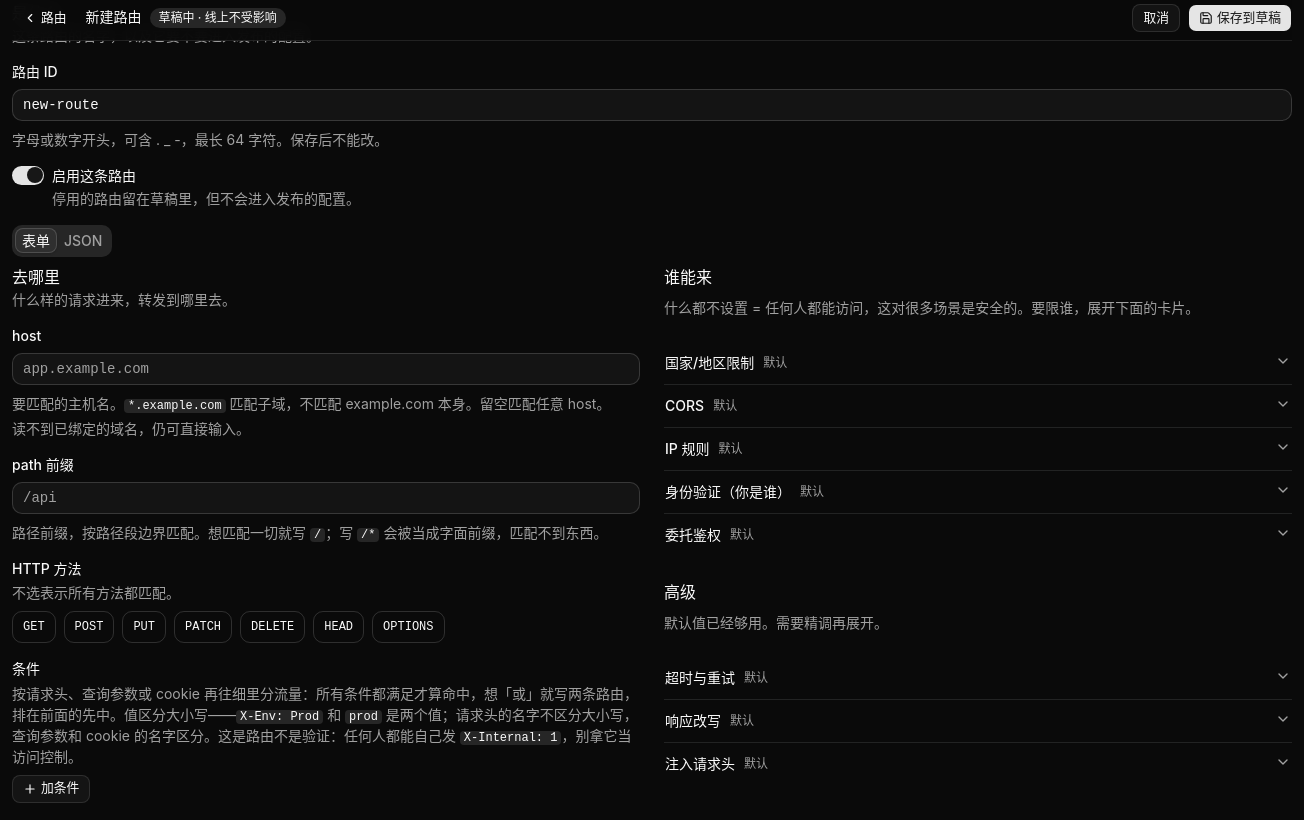
Test: RouteEditor 正文改写（issue #29） › 打开改写就摊开代价：剥掉验证器与 CSP 这件事不能等出问题才发现
Click the button "响应改写 默认".
click(693, 720)  # box x1=664 y1=700 x2=1292 y2=742
(page scrolled)
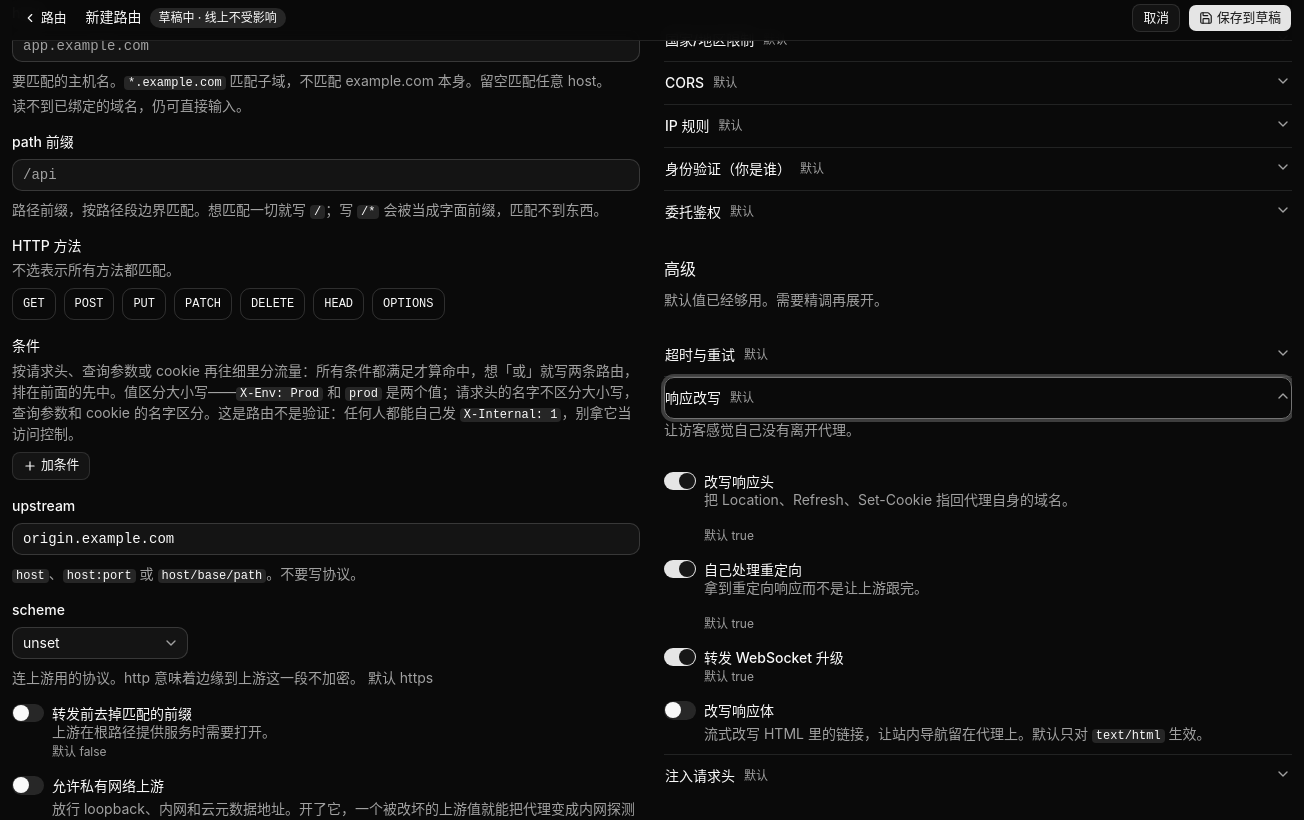
Click the switch named "改写响应体" next to "改写响应体".
click(680, 710)  # box x1=664 y1=701 x2=696 y2=720
(page scrolled)
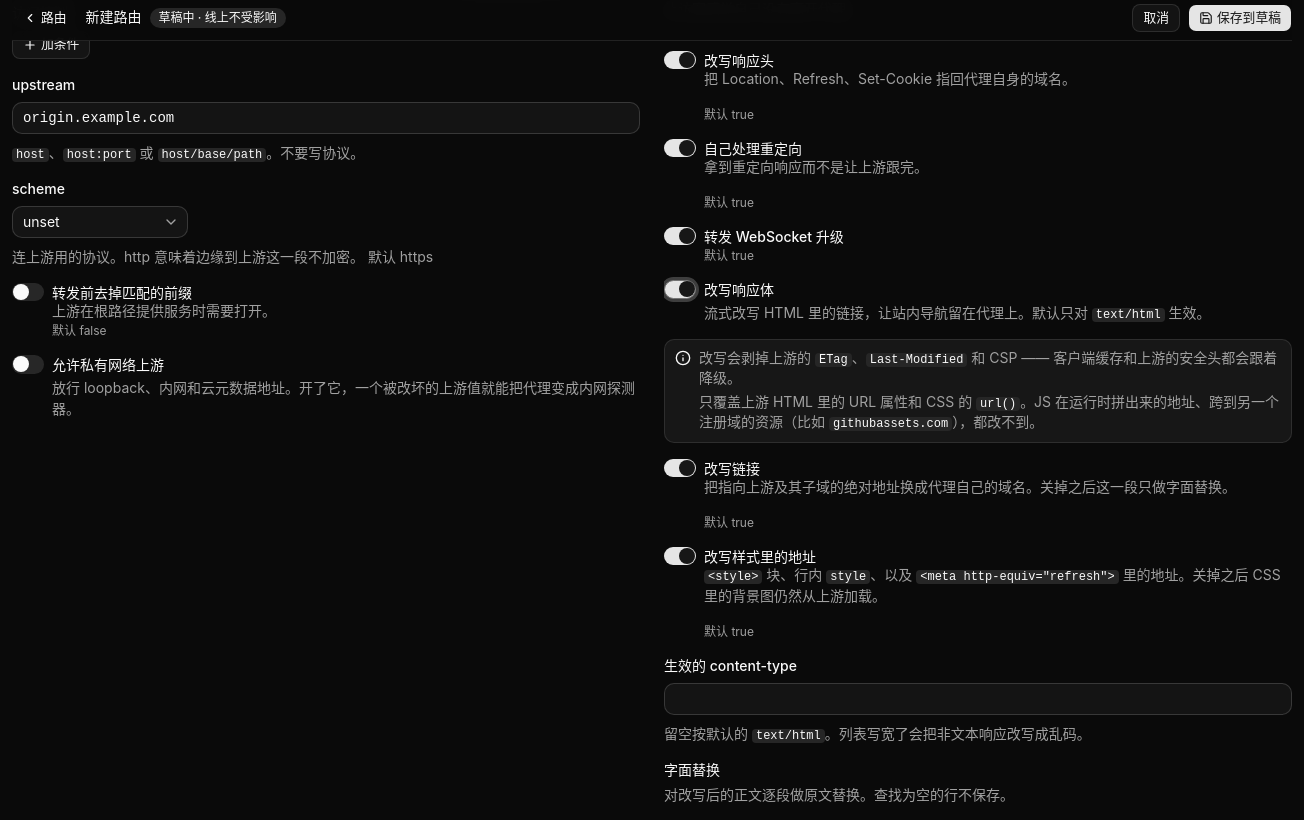
Result: the message shows "改写会剥掉上游的" at x1=699 y1=348 x2=815 y2=366
Result: the message shows "都改不到" at x1=952 y1=412 x2=1043 y2=430
